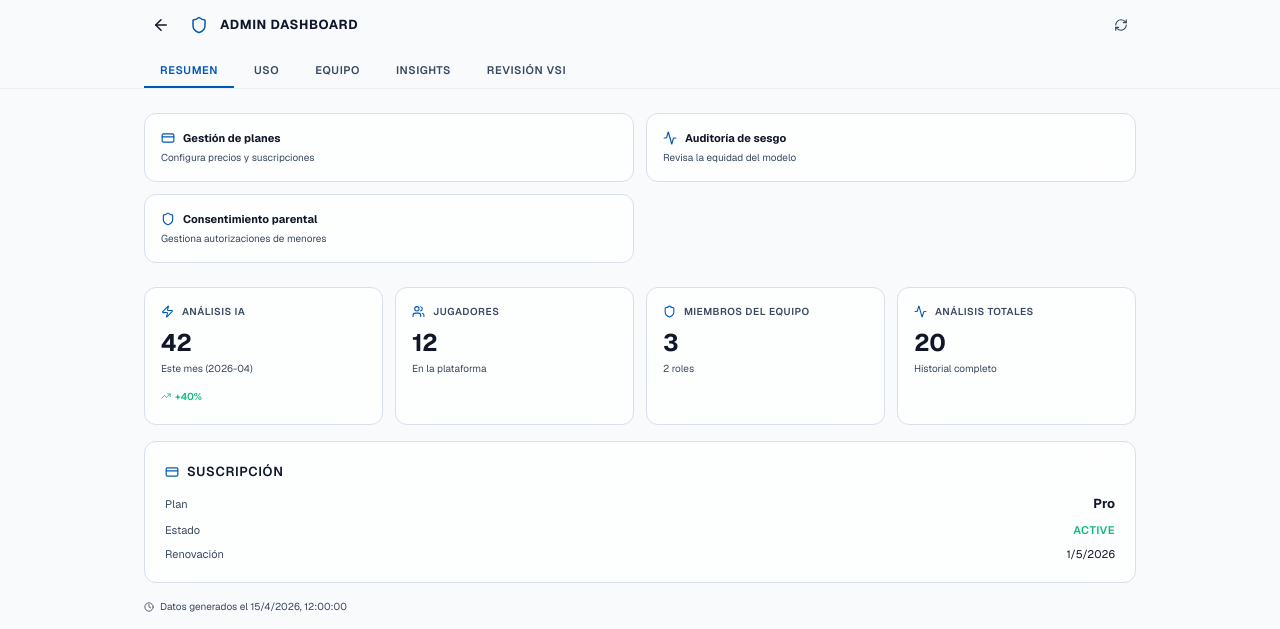
AdminDashboardPage › tabs con data cargada › muestra mensaje cuando no hay insights
What coordinates should you click on to do the following:
click the button "Insights"
I would click on:
 (423, 71)
Its box is [380,54,467,88].
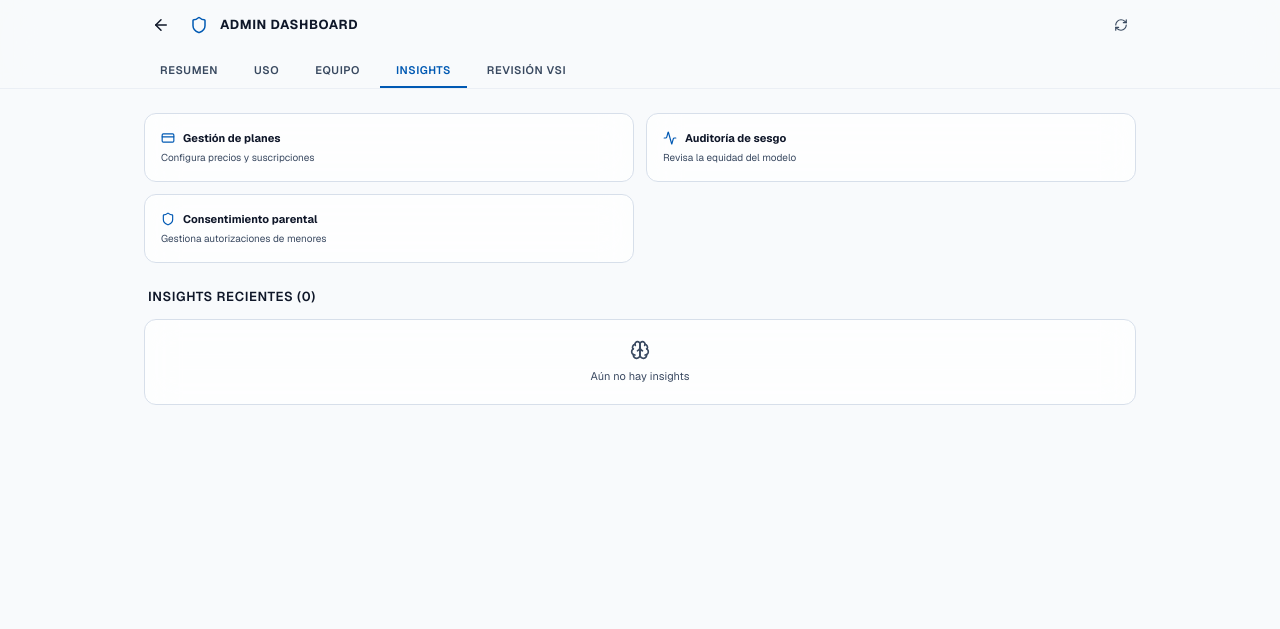
Expected: the text "Aún no hay insights" is shown, [590,369,690,383]
